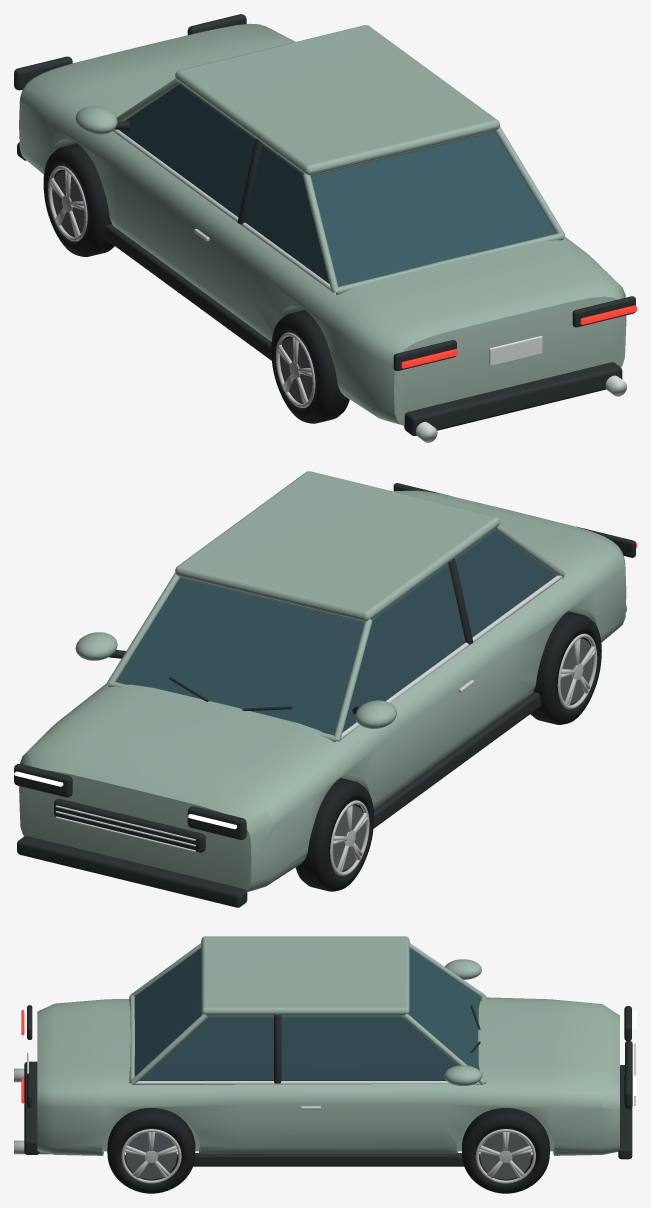
Rendered from touring-s.glb.
3 views of the same model, one above another, from view 1: azimuth 30°, elevation 25°; view 2: azimuth 150°, elevation 25°; view 3: azimuth 270°, elevation 25° (orthographic). The views are drawn at different scales.
Parts seen in each view (by area): view 1: touring-s_Paint, touring-s_Smoked glass, touring-s_Graphite, Spin_RL.003_Rubber, Spin_FL.003_Rubber, touring-s_Satin aluminium, Spin_FL.003_WheelFinish, Spin_RL.003_WheelFinish, touring-s_Ivory, Spin_RL.003_Brake steel, Spin_FL.003_Brake steel, touring-s_Tail lamp; view 2: touring-s_Paint, touring-s_Smoked glass, touring-s_Graphite, Spin_FL.003_Rubber, Spin_RL.003_Rubber, touring-s_Satin aluminium, Spin_RL.003_WheelFinish, Spin_FL.003_WheelFinish, Spin_RL.003_Brake steel, Spin_FL.003_Brake steel; view 3: touring-s_Paint, touring-s_Smoked glass, touring-s_Graphite, Spin_RR.003_Rubber, Spin_FR.003_Rubber, touring-s_Satin aluminium, Spin_RR.003_Brake steel, Spin_FR.003_WheelFinish, Spin_FR.003_Brake steel, Spin_RR.003_WheelFinish.
Part boxes in pixels (bbox=[...]): touring-s_Paint: bbox=[19, 23, 626, 425]; touring-s_Smoked glass: bbox=[118, 83, 556, 286]; touring-s_Graphite: bbox=[14, 14, 635, 435]; Spin_RL.003_Rubber: bbox=[271, 310, 349, 423]; Spin_FL.003_Rubber: bbox=[43, 143, 114, 256]; touring-s_Satin aluminium: bbox=[112, 129, 627, 442]; Spin_FL.003_WheelFinish: bbox=[48, 165, 87, 241]; Spin_RL.003_WheelFinish: bbox=[276, 332, 315, 407]; touring-s_Ivory: bbox=[489, 336, 542, 366]; Spin_RL.003_Brake steel: bbox=[280, 337, 312, 402]; Spin_FL.003_Brake steel: bbox=[52, 170, 84, 235]; touring-s_Tail lamp: bbox=[401, 305, 636, 368]; touring-s_Paint: bbox=[19, 471, 626, 892]; touring-s_Smoked glass: bbox=[116, 529, 556, 735]; touring-s_Graphite: bbox=[14, 483, 635, 907]; Spin_FL.003_Rubber: bbox=[295, 778, 373, 891]; Spin_RL.003_Rubber: bbox=[530, 611, 601, 724]; touring-s_Satin aluminium: bbox=[55, 575, 627, 851]; Spin_RL.003_WheelFinish: bbox=[557, 633, 597, 709]; Spin_FL.003_WheelFinish: bbox=[330, 800, 369, 875]; Spin_RL.003_Brake steel: bbox=[560, 638, 593, 703]; Spin_FL.003_Brake steel: bbox=[332, 805, 365, 870]; touring-s_Paint: bbox=[37, 936, 619, 1155]; touring-s_Smoked glass: bbox=[134, 948, 480, 1080]; touring-s_Graphite: bbox=[24, 1005, 632, 1166]; Spin_RR.003_Rubber: bbox=[107, 1108, 195, 1193]; Spin_FR.003_Rubber: bbox=[462, 1108, 549, 1193]; touring-s_Satin aluminium: bbox=[14, 1043, 635, 1154]; Spin_RR.003_Brake steel: bbox=[125, 1133, 177, 1179]; Spin_FR.003_WheelFinish: bbox=[475, 1129, 535, 1183]; Spin_FR.003_Brake steel: bbox=[480, 1133, 531, 1179]; Spin_RR.003_WheelFinish: bbox=[121, 1129, 181, 1183].
Bounding box in the file's own units: 2.37 × 1.59 × 5.24.
